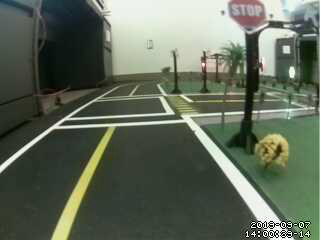Stop_Sign: (226, 3, 279, 38)
